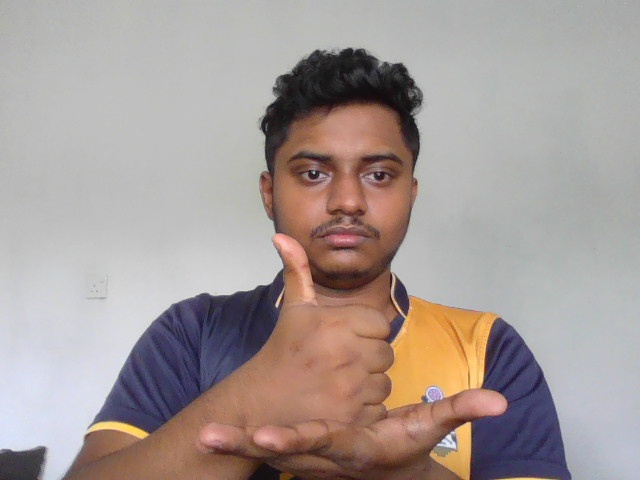Help: (194, 231, 512, 475)
